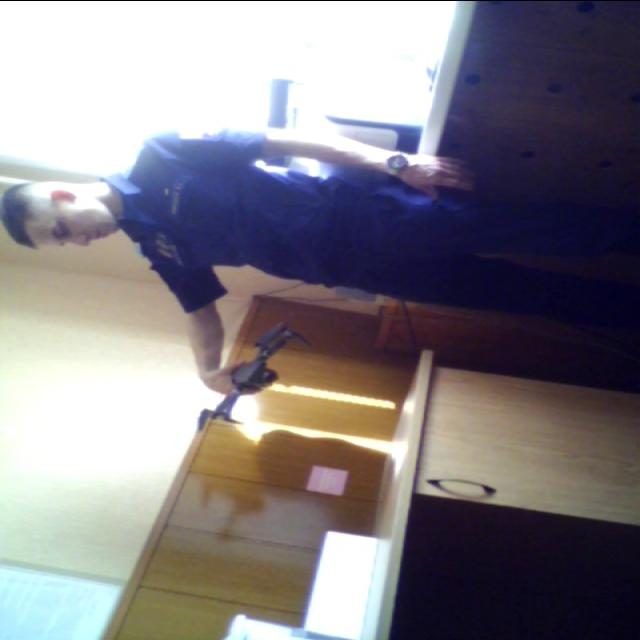drone: (166, 318, 311, 441)
